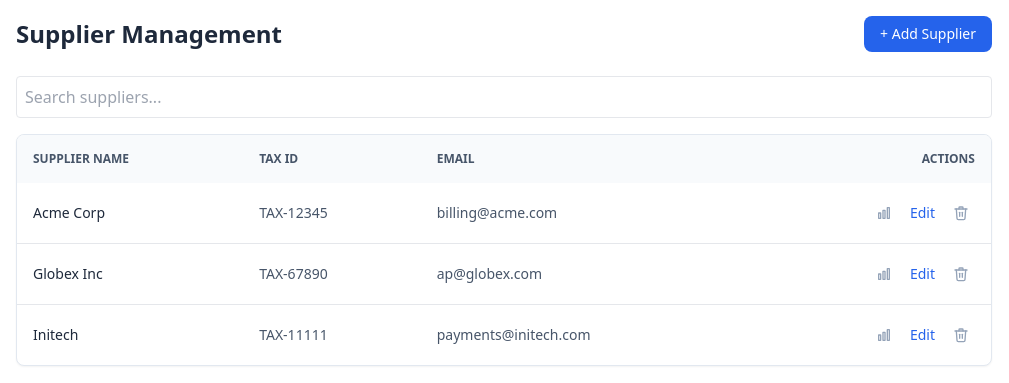
Test case: Suppliers › 3.4 — Search/Filter: dynamic filtering of supplier list › shows empty state when search matches no suppliers
Expected: the text "Acme Corp" is shown, x1=17 y1=183 x2=243 y2=244
Type "ZZZNoMatch" into the field with test id "supplier-search" at (504, 97), box x1=16 y1=76 x2=992 y2=118
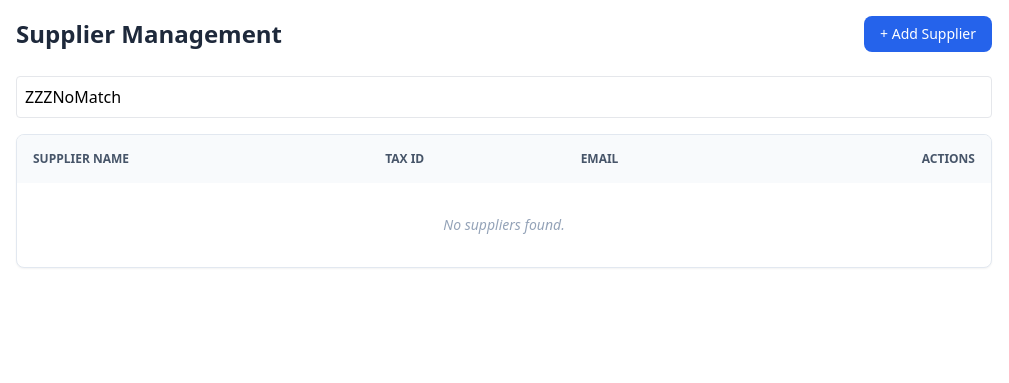
Expected: the text "No suppliers found." is shown, x1=17 y1=183 x2=991 y2=267
